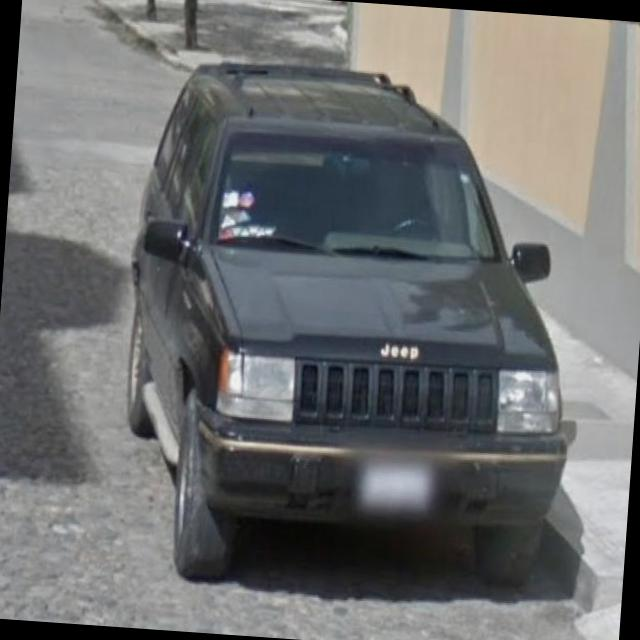car: (112, 46, 600, 621)
